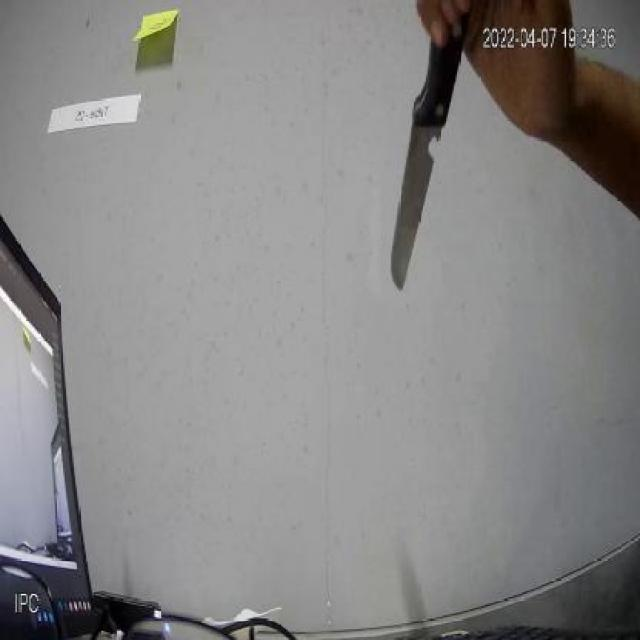-: (388, 5, 472, 328)
